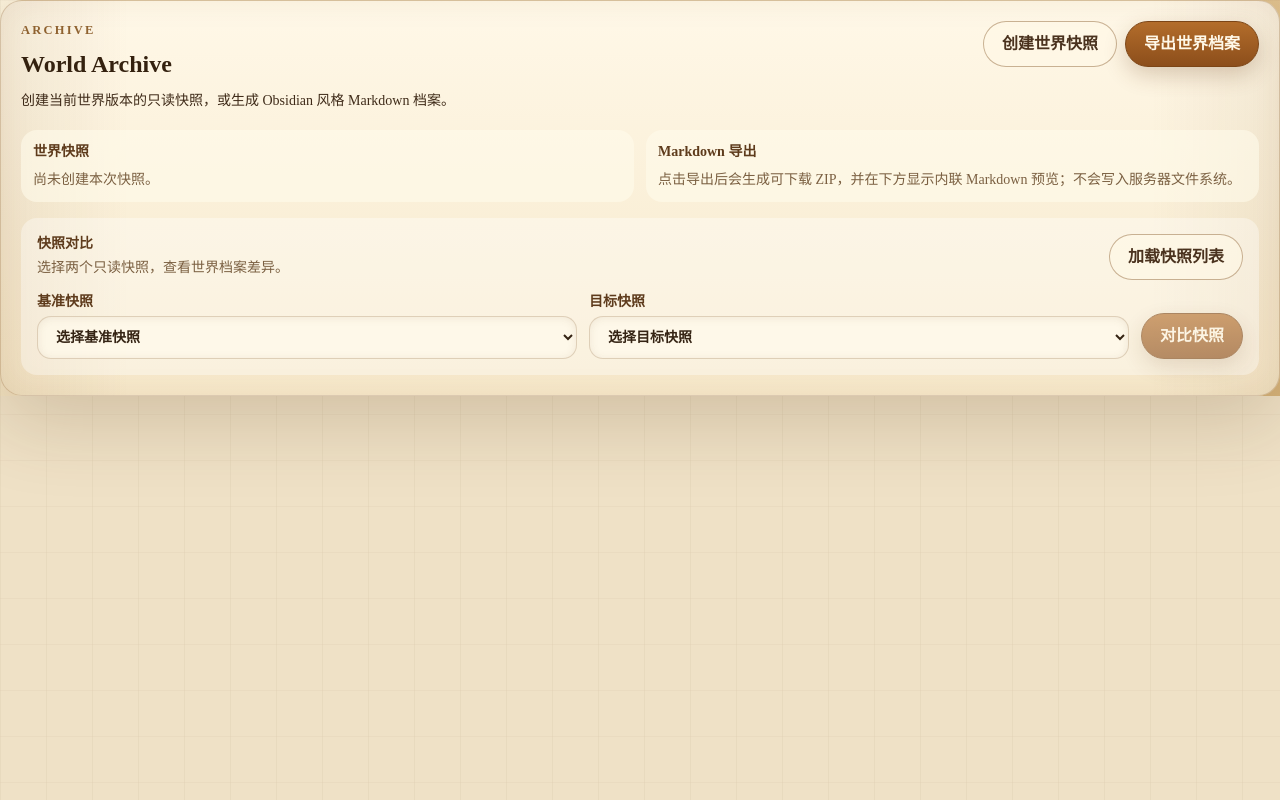
Test: WorldArchivePanel › shows export success state with archive metadata, generated files, and download action
This screenshot has width=1280, height=800.
Click the button "导出世界档案": (1192, 44) [1125,21,1259,67]
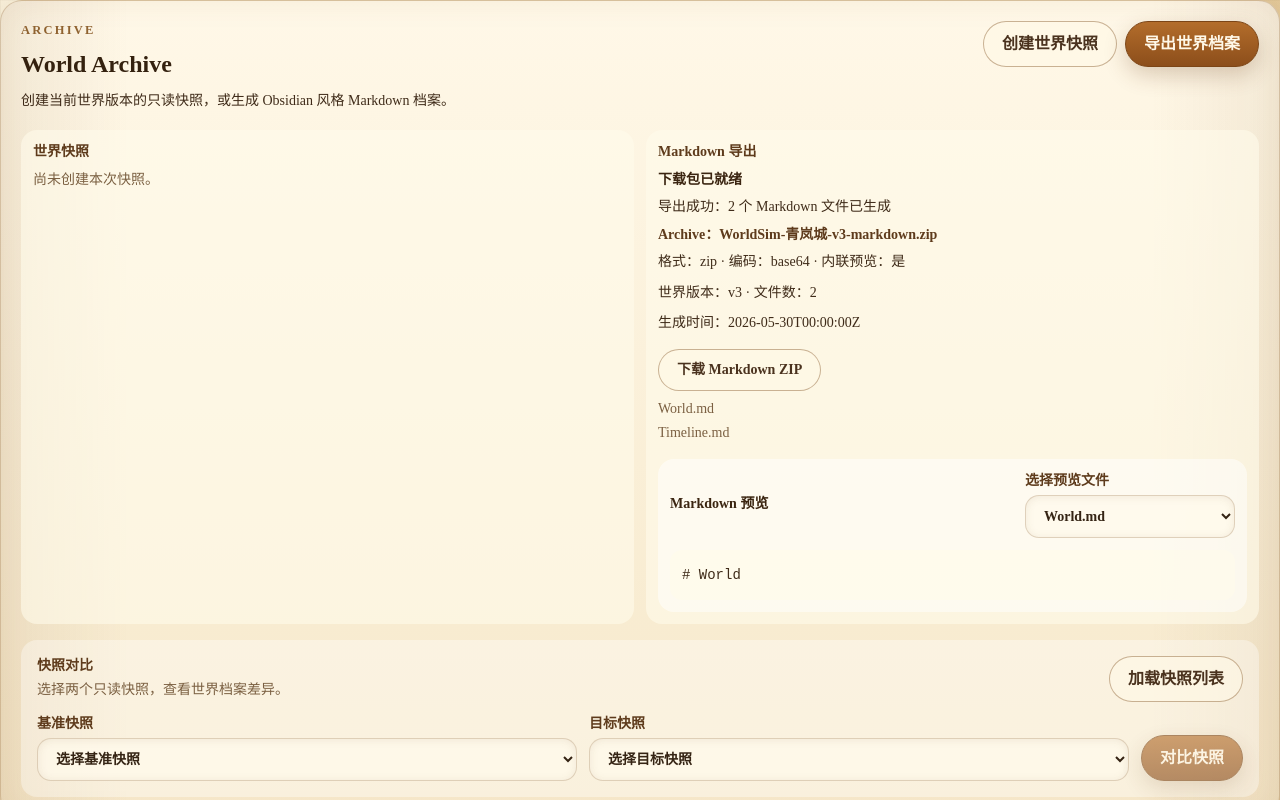
Now the text "下载包已就绪" is shown, box [658,172,742,187]
Now the text "Archive：WorldSim-青岚城-v3-markdown.zip" is shown, box [658,227,937,242]
Now the text "格式：zip · 编码：base64 · 内联预览：是" is shown, box [658,254,905,269]
